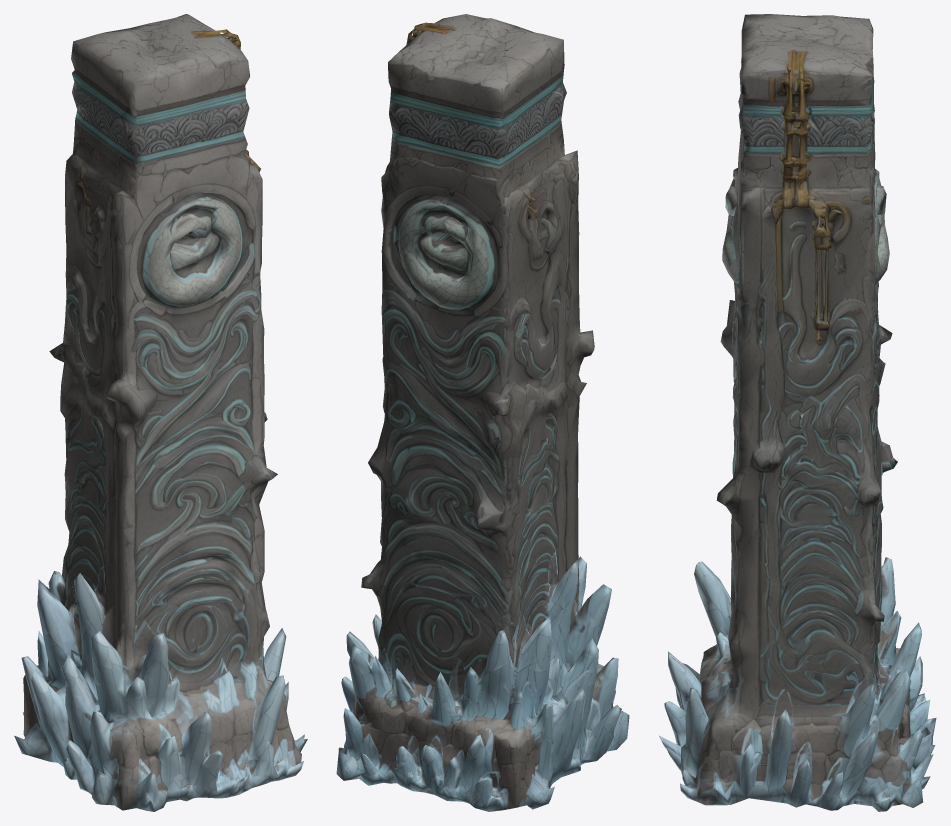
File: PR_FogGatePillar_02.fbx
The picture shows the model from 3 angles, left to right: view 1: azimuth 30°, elevation 25°; view 2: azimuth 150°, elevation 25°; view 3: azimuth 270°, elevation 25°; orthographic projection.
Visible parts, largest first — view 1: texture_mapping; view 2: texture_mapping; view 3: texture_mapping.
Boxes of the visible parts, x1,y1,x2,y2 form: texture_mapping: (14, 14, 307, 811); texture_mapping: (336, 14, 629, 811); texture_mapping: (658, 14, 936, 811).
Size of the model in its own units: 0.3461 by 0.3461 by 1.
Materials: 1 (1 with a texture image).
